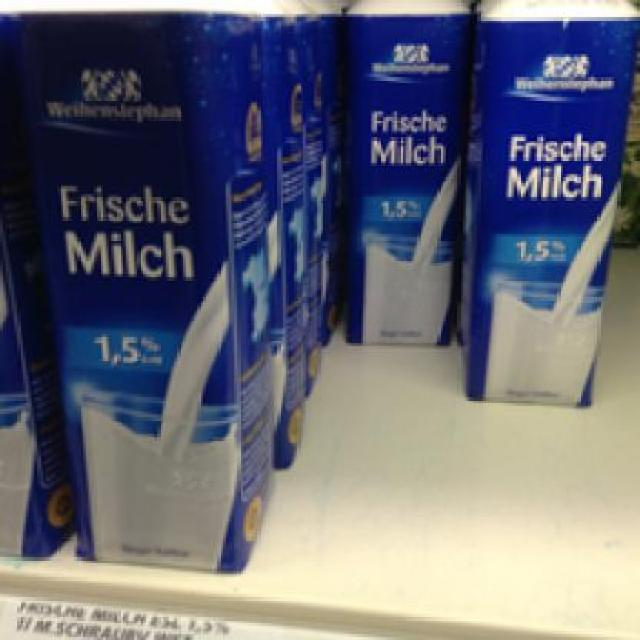Milk: (16, 6, 272, 566), (463, 0, 627, 395), (334, 0, 457, 343), (460, 0, 474, 3)
